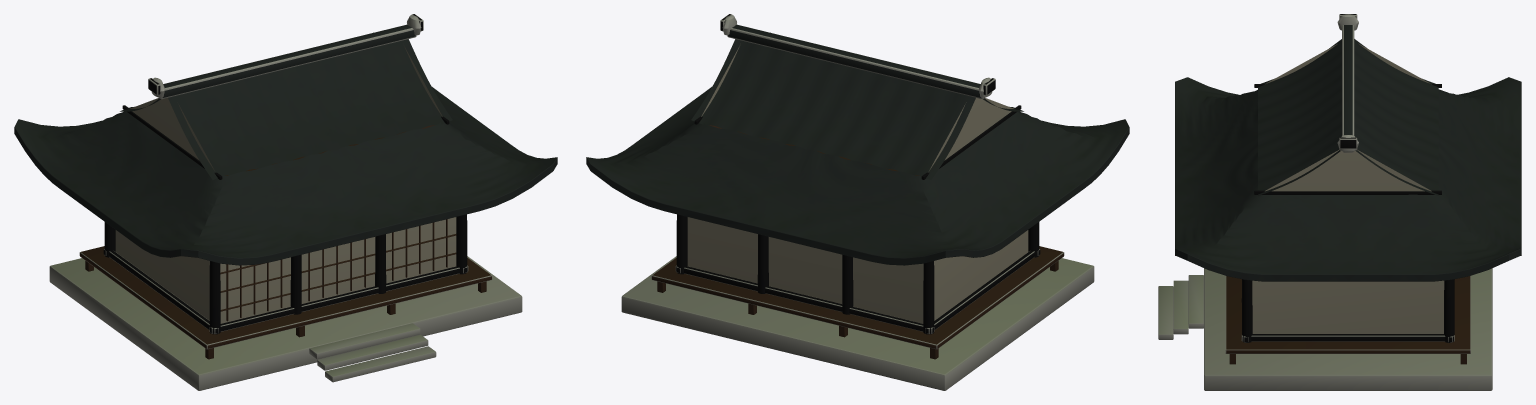
File: shrine-kit.glb
The picture shows the model from 3 angles, left to right: view 1: azimuth 30°, elevation 25°; view 2: azimuth 150°, elevation 25°; view 3: azimuth 270°, elevation 25°; orthographic projection. The views are drawn at different scales.
Visible parts, largest first — view 1: ShrineHall; view 2: ShrineHall; view 3: ShrineHall.
Boxes of the visible parts, x1,y1,x2,y2 form: ShrineHall: (14,14,557,390); ShrineHall: (586,14,1129,390); ShrineHall: (1158,14,1521,390).
Bounding box in the file's own units: 11.6 × 7.75 × 10.06.
